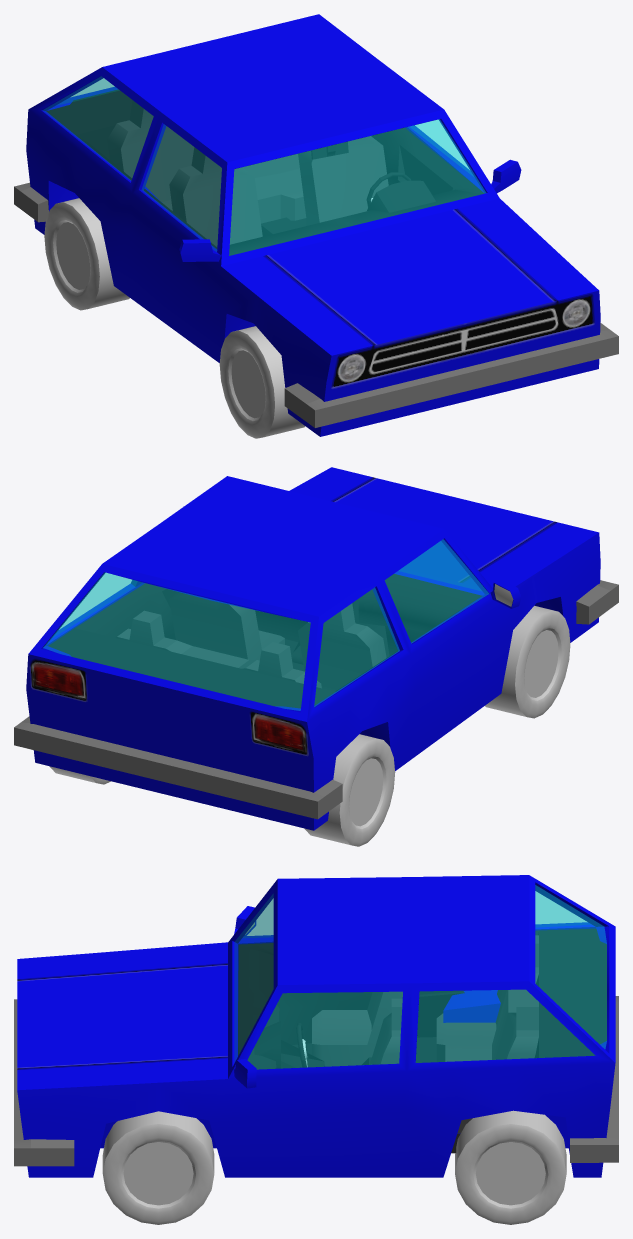
The picture shows the model from 3 angles, top to bottom: view 1: azimuth 30°, elevation 25°; view 2: azimuth 150°, elevation 25°; view 3: azimuth 270°, elevation 25°; orthographic projection.
Parts seen in each view (by area): view 1: pCube12, CARRO1P1:pCube44, CARRO1P1:pCube12, CARRO1P1:pCube7, CARRO1P1:pCube36, CARRO1P1:pCylinder13, CARRO1P1:pCylinder14, CARRO1P1:pCube54, CARRO1P1:pCube55, CARRO1P1:pCube22, CARRO1P1:pCube35, CARRO1P1:pCube27 (+4 smaller); view 2: pCube12, CARRO1P1:pCube45, CARRO1P1:pCube12, CARRO1P1:pCube9, CARRO1P1:pCylinder13, CARRO1P1:pCylinder14, CARRO1P1:pCube55, CARRO1P1:pCube54, CARRO1P1:pCube22, CARRO1P1:pCube35, CARRO1P1:pCube36, CARRO1P1:pCube44 (+3 smaller); view 3: pCube12, CARRO1P1:pCube12, CARRO1P1:pCylinder7, CARRO1P1:pCylinder3, CARRO1P1:pCube47, CARRO1P1:pCube49, CARRO1P1:pCube45, CARRO1P1:pCube36, CARRO1P1:pCube44, CARRO1P1:pCube35, CARRO1P1:pCube7, CARRO1P1:pCube9 (+5 smaller).
Boxes of the visible parts, x1,y1,x2,y2 form: pCube12: (26, 14, 600, 436); CARRO1P1:pCube44: (229, 119, 485, 255); CARRO1P1:pCube12: (46, 89, 484, 255); CARRO1P1:pCube7: (284, 322, 618, 427); CARRO1P1:pCube36: (107, 100, 306, 223); CARRO1P1:pCylinder13: (219, 326, 305, 438); CARRO1P1:pCylinder14: (44, 198, 129, 310); CARRO1P1:pCube54: (43, 76, 153, 180); CARRO1P1:pCube55: (142, 124, 221, 251); CARRO1P1:pCube22: (298, 136, 388, 225); CARRO1P1:pCube35: (169, 147, 262, 246); CARRO1P1:pCube27: (367, 180, 435, 212); pCube12: (26, 467, 600, 830); CARRO1P1:pCube45: (43, 572, 310, 710); CARRO1P1:pCube12: (48, 574, 481, 708); CARRO1P1:pCube9: (14, 716, 342, 819); CARRO1P1:pCylinder13: (485, 605, 570, 718); CARRO1P1:pCylinder14: (304, 734, 395, 846); CARRO1P1:pCube55: (385, 539, 488, 643); CARRO1P1:pCube54: (314, 587, 399, 706); CARRO1P1:pCube22: (169, 592, 284, 660); CARRO1P1:pCube35: (298, 603, 386, 691); CARRO1P1:pCube36: (116, 610, 321, 688); CARRO1P1:pCube44: (399, 541, 481, 590); pCube12: (17, 875, 615, 1177); CARRO1P1:pCube12: (238, 928, 606, 1153); CARRO1P1:pCylinder7: (455, 1110, 566, 1224); CARRO1P1:pCylinder3: (102, 1111, 214, 1224); CARRO1P1:pCube47: (248, 992, 402, 1069); CARRO1P1:pCube49: (416, 990, 594, 1062); CARRO1P1:pCube45: (535, 885, 606, 1048); CARRO1P1:pCube36: (436, 935, 538, 1133); CARRO1P1:pCube44: (234, 894, 273, 1062); CARRO1P1:pCube35: (312, 991, 402, 1066); CARRO1P1:pCube7: (14, 999, 74, 1166); CARRO1P1:pCube9: (570, 996, 618, 1162).
Size of the model in its own units: 9.66 by 6.05 by 14.78.
